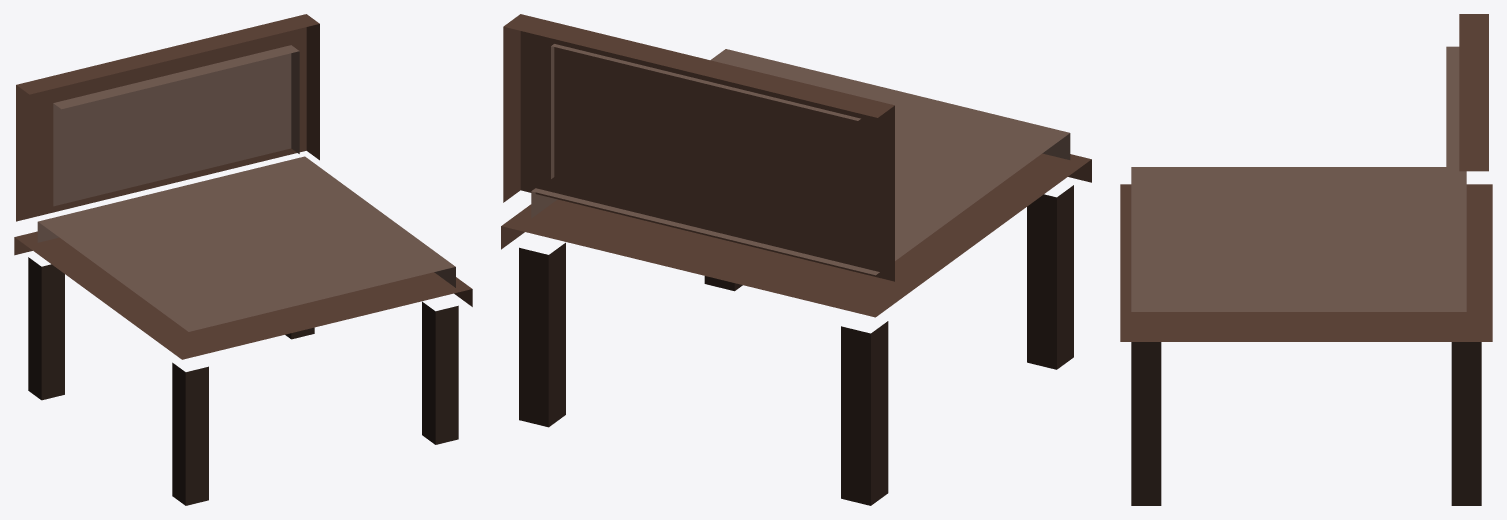
Rendered from Chair-walnut.glb.
3 views of the same model, side by side, from view 1: azimuth 30°, elevation 25°; view 2: azimuth 150°, elevation 25°; view 3: azimuth 270°, elevation 25° (orthographic). The views are drawn at different scales.
Parts seen in each view (by area): view 1: Chair; view 2: Chair; view 3: Chair.
Boxes of the visible parts, x1,y1,x2,y2 form: Chair: [14, 14, 472, 505]; Chair: [501, 14, 1091, 505]; Chair: [1120, 14, 1492, 505].
Size of the model in its own units: 1 by 1 by 1.
